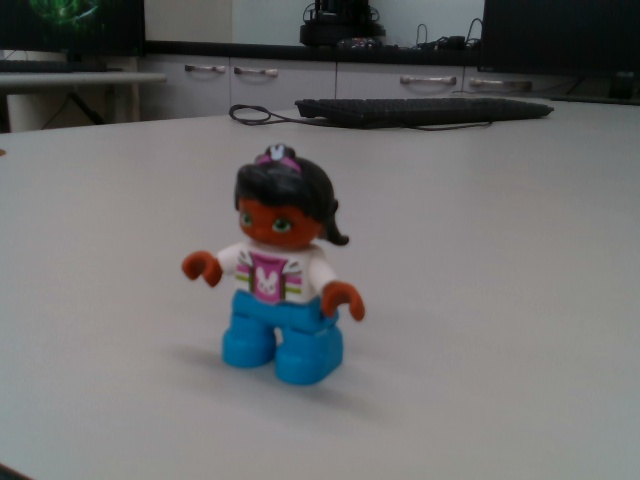people: (179, 142, 371, 386)
